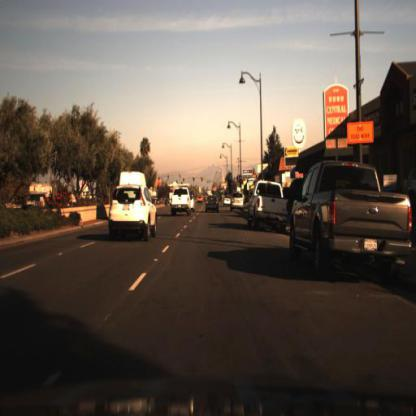car: (286, 155, 415, 291), (294, 156, 412, 283), (107, 180, 160, 242), (245, 178, 292, 240), (245, 177, 288, 237), (116, 165, 152, 190), (167, 186, 194, 217), (204, 192, 221, 212)
